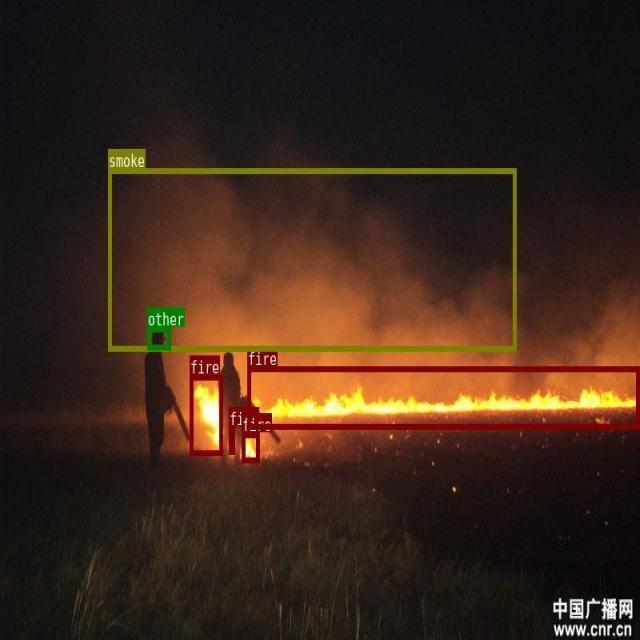fire: (247, 366, 639, 427), (189, 374, 222, 454), (241, 431, 259, 462), (228, 426, 234, 453)
smoke: (108, 167, 516, 350)
